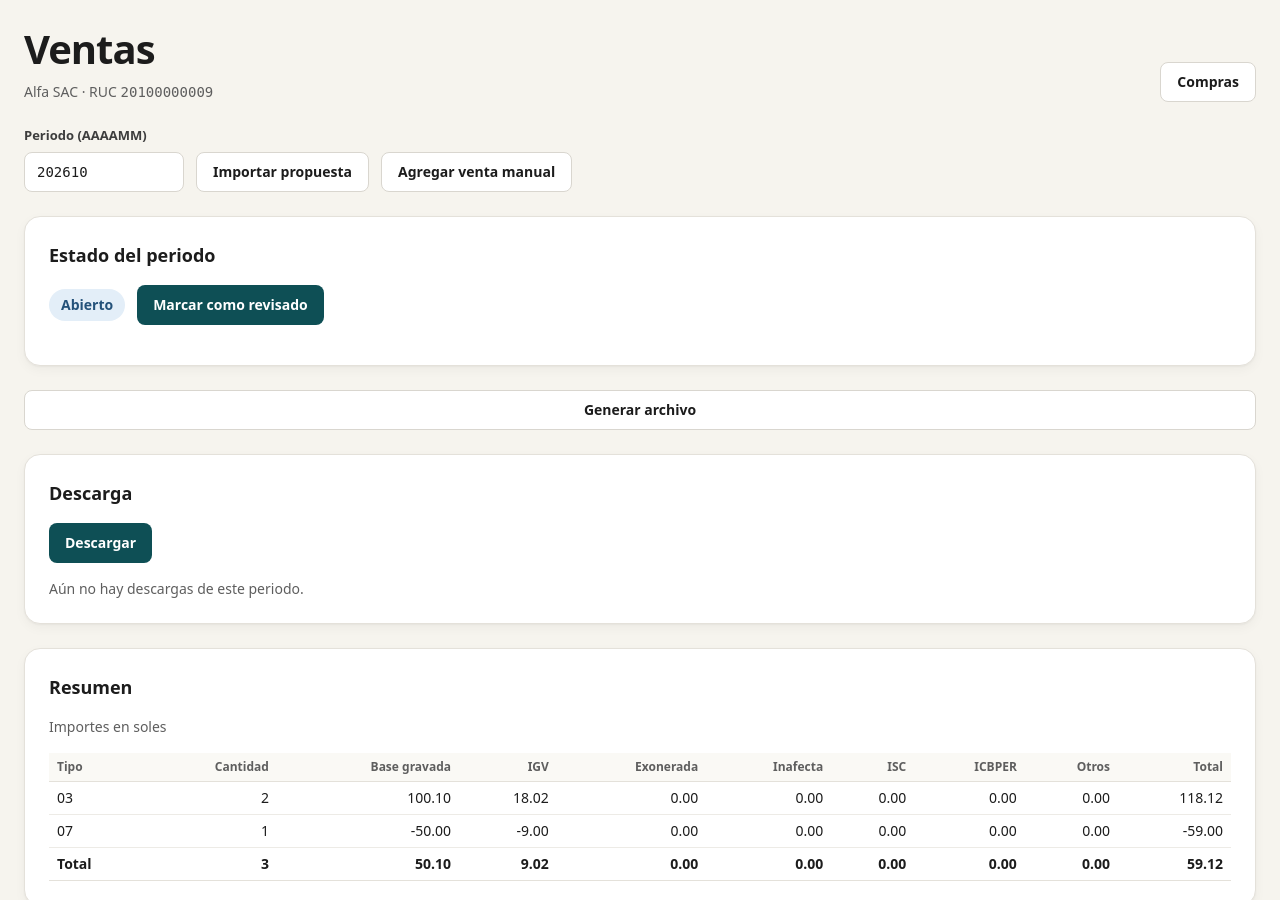
Test: Ventas · excluir y restaurar (spec 012b T15, D12, P-8, CA-15) › feliz: restaurar pide confirmación y devuelve la venta al previo con su error
Click the button "Generar archivo". click: (640, 410)
box: [24,390,1256,430]
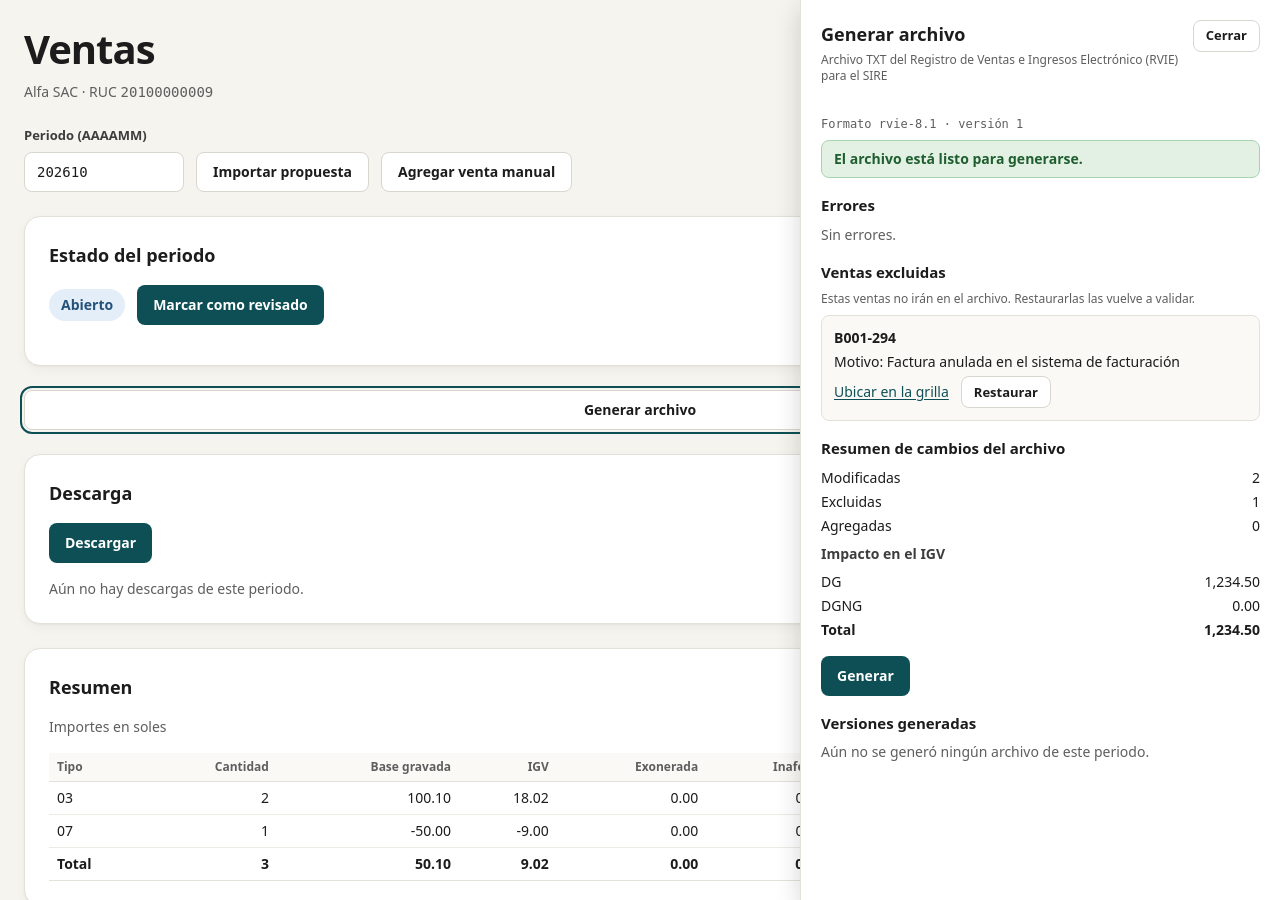
Click the button "Restaurar". click: (1006, 392)
box: [961,376,1051,408]
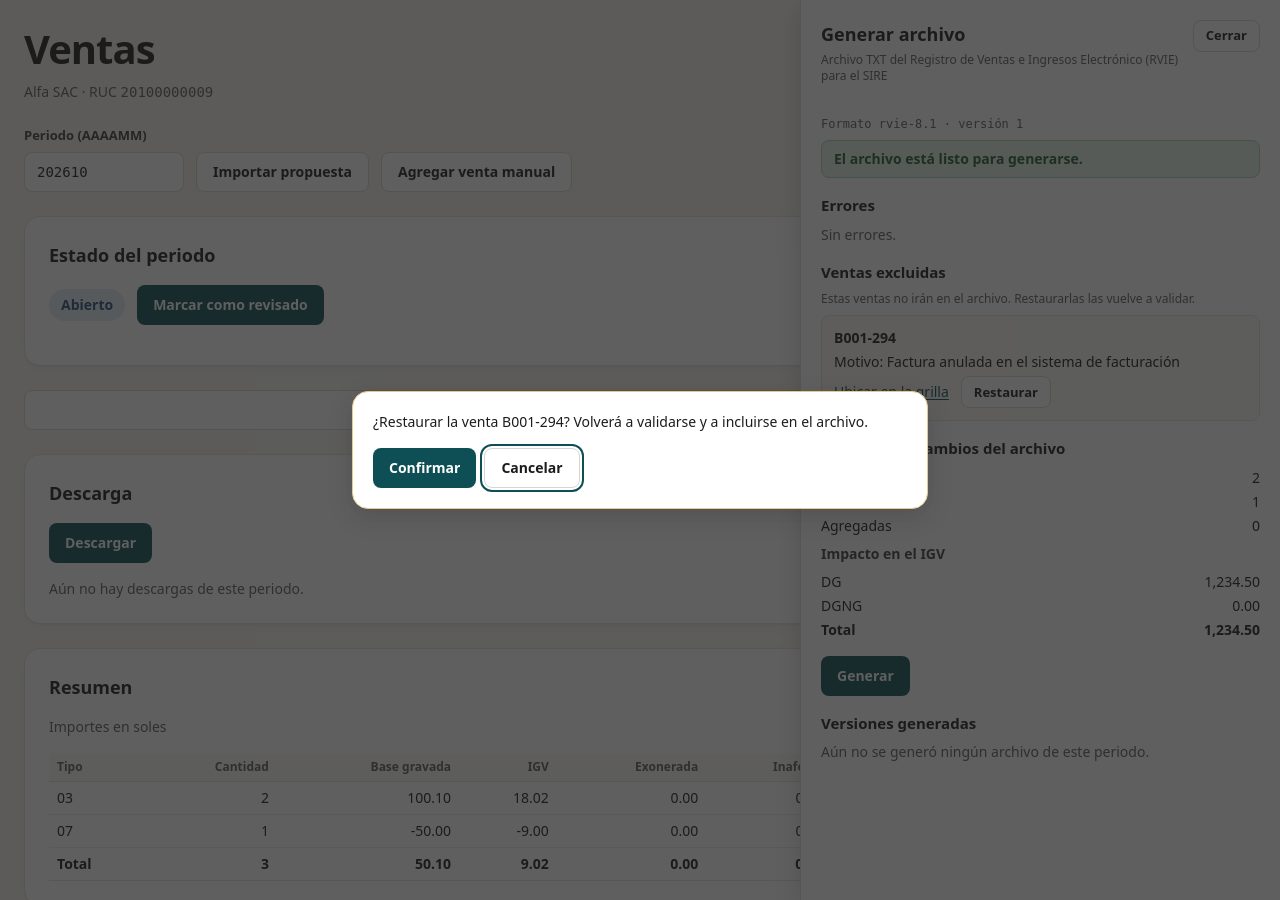
Click the button "Confirmar". click: (425, 468)
box: [373,448,476,488]
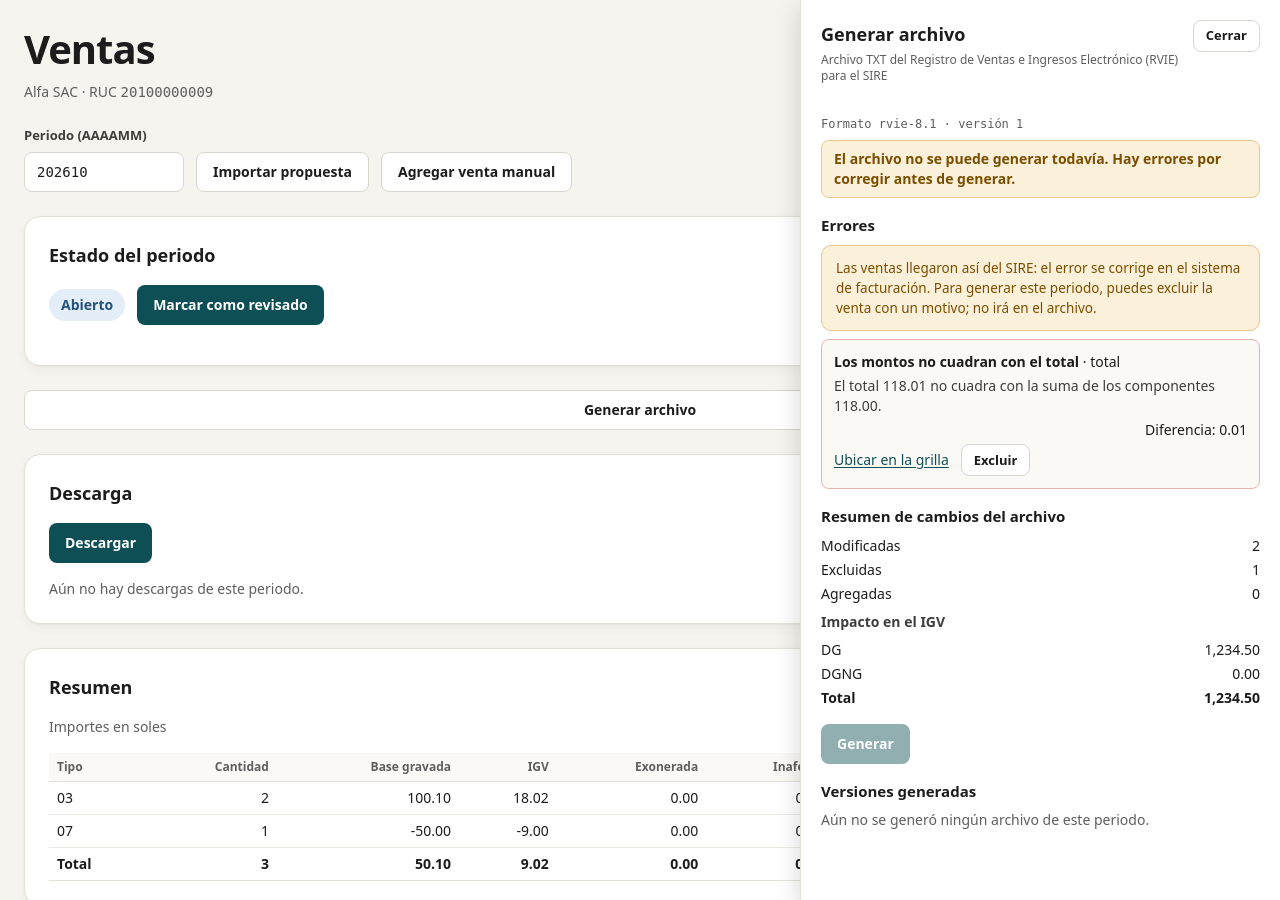
Result: the text "no cuadra con la suma" is shown at [834,376,1215,415]
